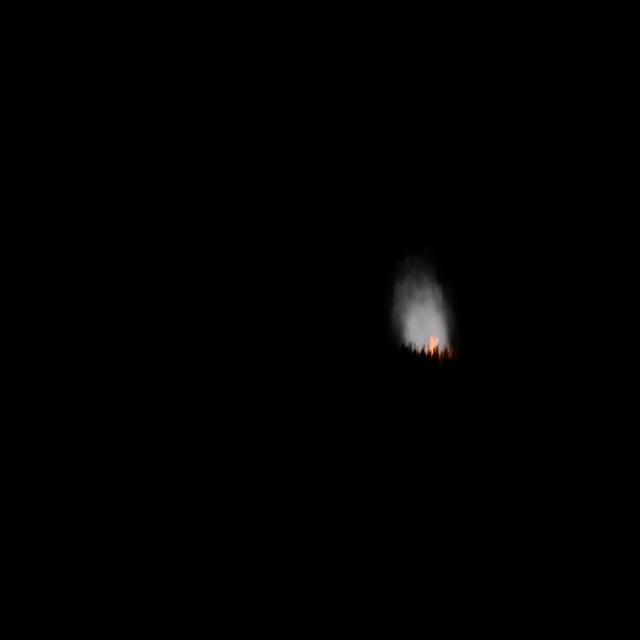fire: (428, 332, 442, 358)
smoke: (392, 268, 453, 356)
